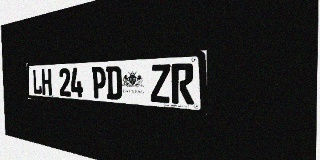2: (59, 68, 71, 97)
4: (70, 67, 83, 97)
D: (106, 66, 122, 100)
H: (41, 69, 52, 95)
L: (32, 69, 42, 95)
P: (92, 66, 106, 99)
R: (171, 63, 194, 105)
Z: (150, 64, 171, 103)
